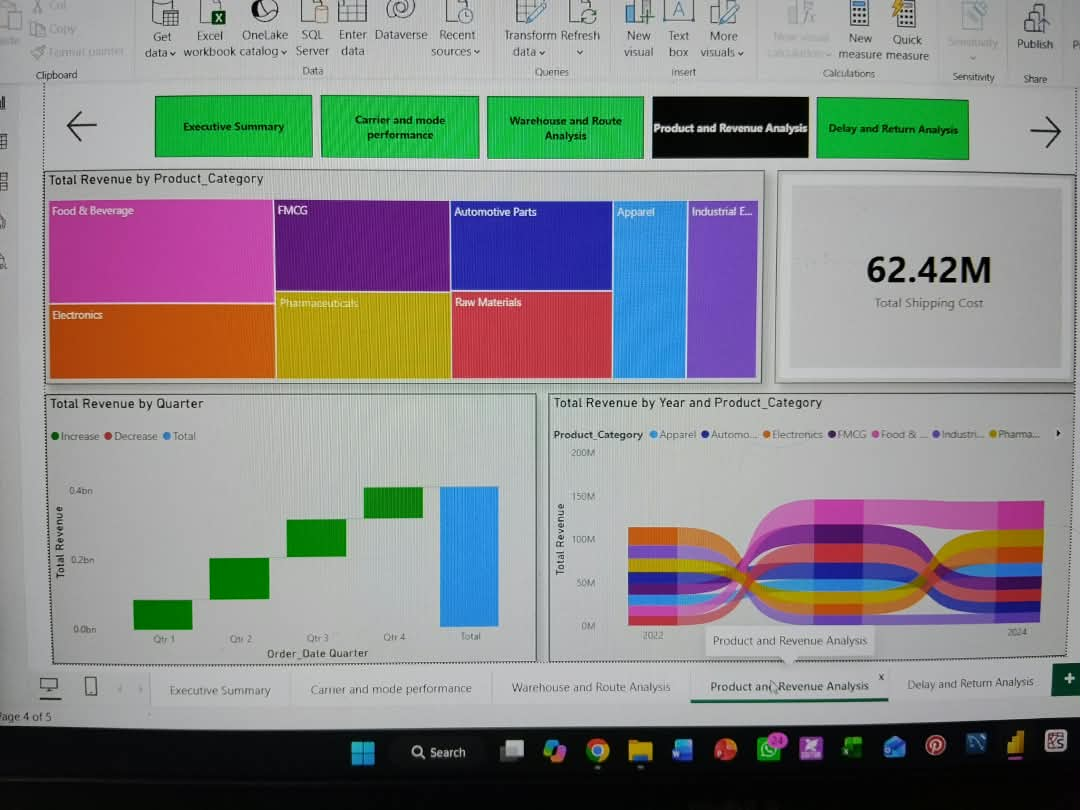

What the dashboard file says about the page in this screenshot:
{"tool":"powerbi","page":{"name":"Product and Revenue Analysis","canvas":[1280,720],"ordinal":3},"visuals":[{"type":"treemap","fields":{"Group":["Raw_Data.Product_Category"],"Values":["Raw_Data.Total Revenue"]},"box":[0,110.1,884.1,261.7],"z":0},{"type":"waterfallChart","fields":{"Category":["Raw_Data.Order_Date.Variation.Date Hierarchy.Quarter"],"Y":["Raw_Data.Total Revenue"]},"box":[0,384,602.9,336.3],"z":1000},{"type":"ribbonChart","fields":{"Y":["Raw_Data.Total Revenue"],"Category":["Raw_Data.Order_Date.Variation.Date Hierarchy.Year"],"Series":["Raw_Data.Product_Category"]},"box":[618.8,384,661.6,336.3],"z":2000},{"type":"cardVisual","fields":{"Data":["Raw_Data.Total Shipping Cost"]},"box":[900,110.1,380.3,261.7],"z":3000},{"type":"pageNavigator","box":[139.4,20.8,1000.3,75.8],"z":4000},{"type":"actionButton","box":[23.2,26.9,50.1,58.7],"z":5000},{"type":"actionButton","box":[1213,26.9,52.6,62.4],"z":6000}]}

Visuals, with their boxes in screenshot pixels (x1, y1, x2, y2):
treemap - Raw_Data.Product_Category x Raw_Data.Total Revenue: 45, 167, 755, 377
waterfallChart - Raw_Data.Order_Date.Variation.Date Hierarchy.Quarter x Raw_Data.Total Revenue: 45, 387, 529, 657
ribbonChart - Raw_Data.Total Revenue x Raw_Data.Order_Date.Variation.Date Hierarchy.Year: 542, 387, 1073, 657
cardVisual - Raw_Data.Total Shipping Cost: 767, 167, 1073, 377
pageNavigator: 157, 95, 960, 156
actionButton: 64, 100, 104, 147
actionButton: 1019, 100, 1061, 150
